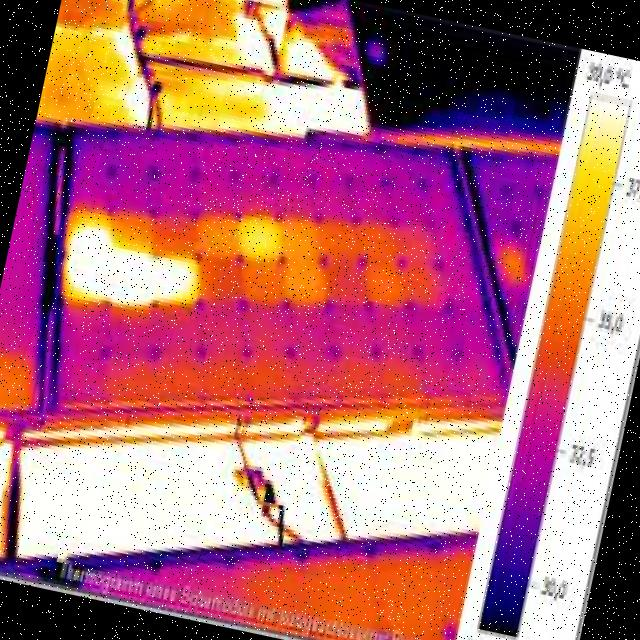Hotspot: (45, 203, 218, 346), (220, 200, 300, 275)
